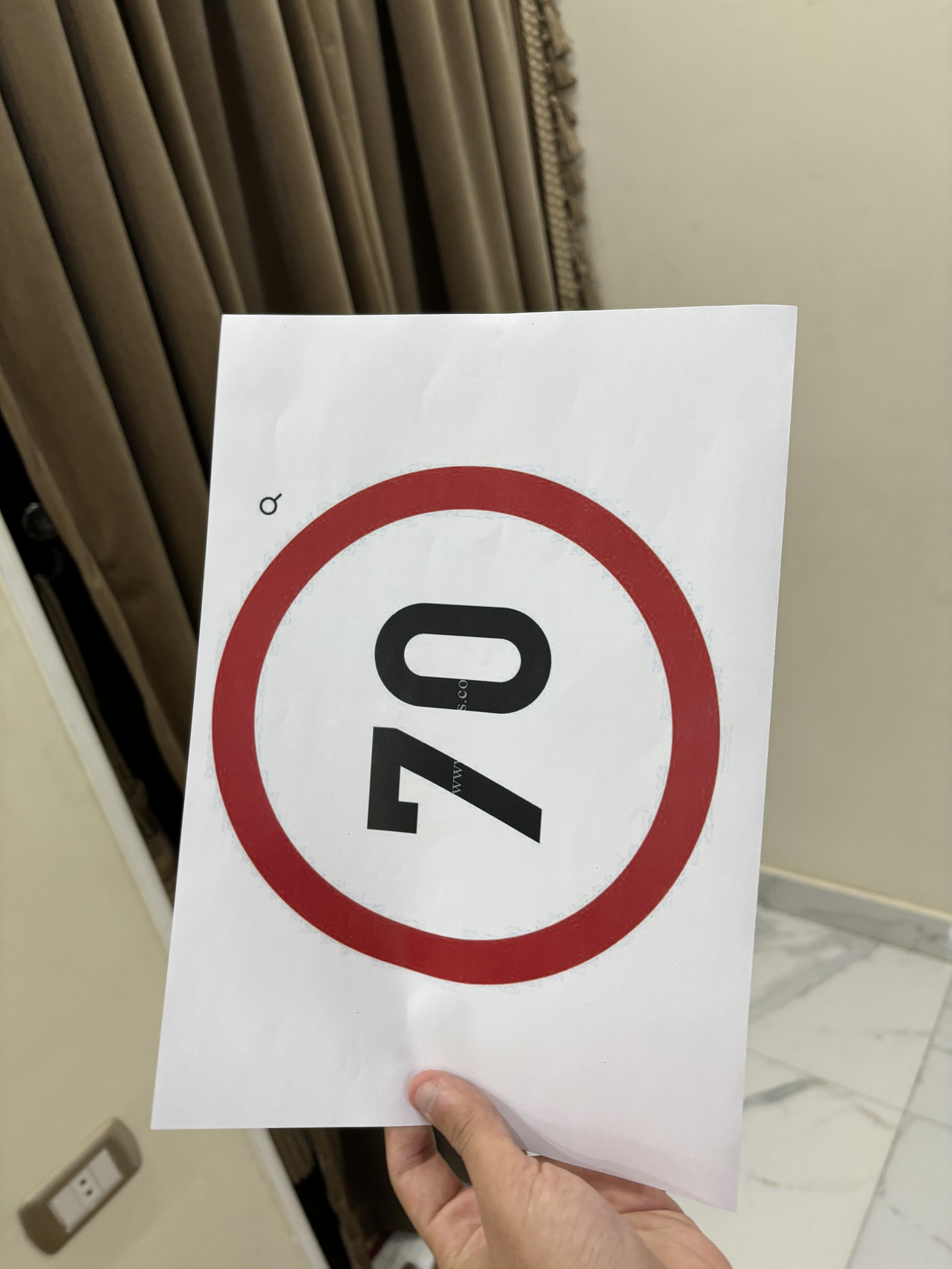70-Speed: (210, 465, 729, 991)
